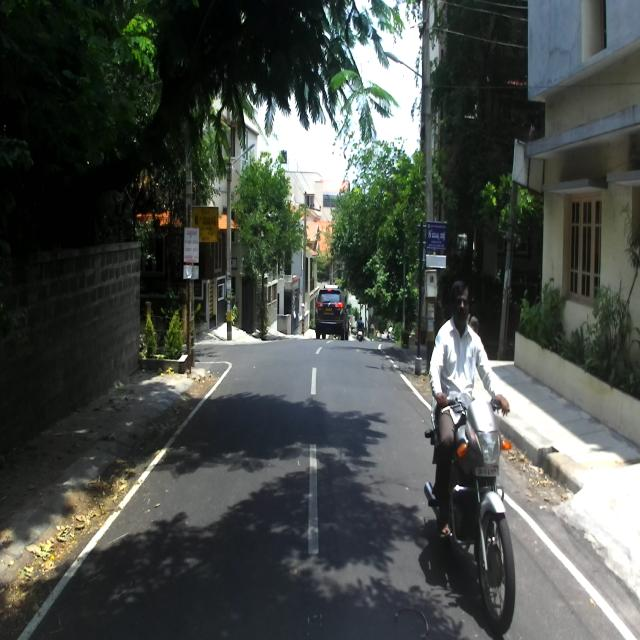electric pole ahead at: (174, 137, 204, 372)
motorcycle ahead at: (431, 398, 522, 635)
